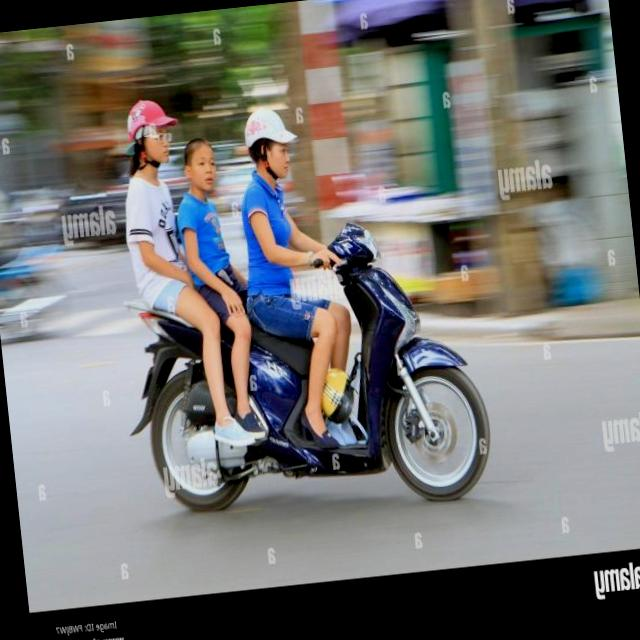motorcycle: (104, 205, 503, 536)
person: (227, 96, 382, 463), (102, 82, 225, 394), (165, 124, 268, 402)
rider_region: (104, 54, 500, 528)
